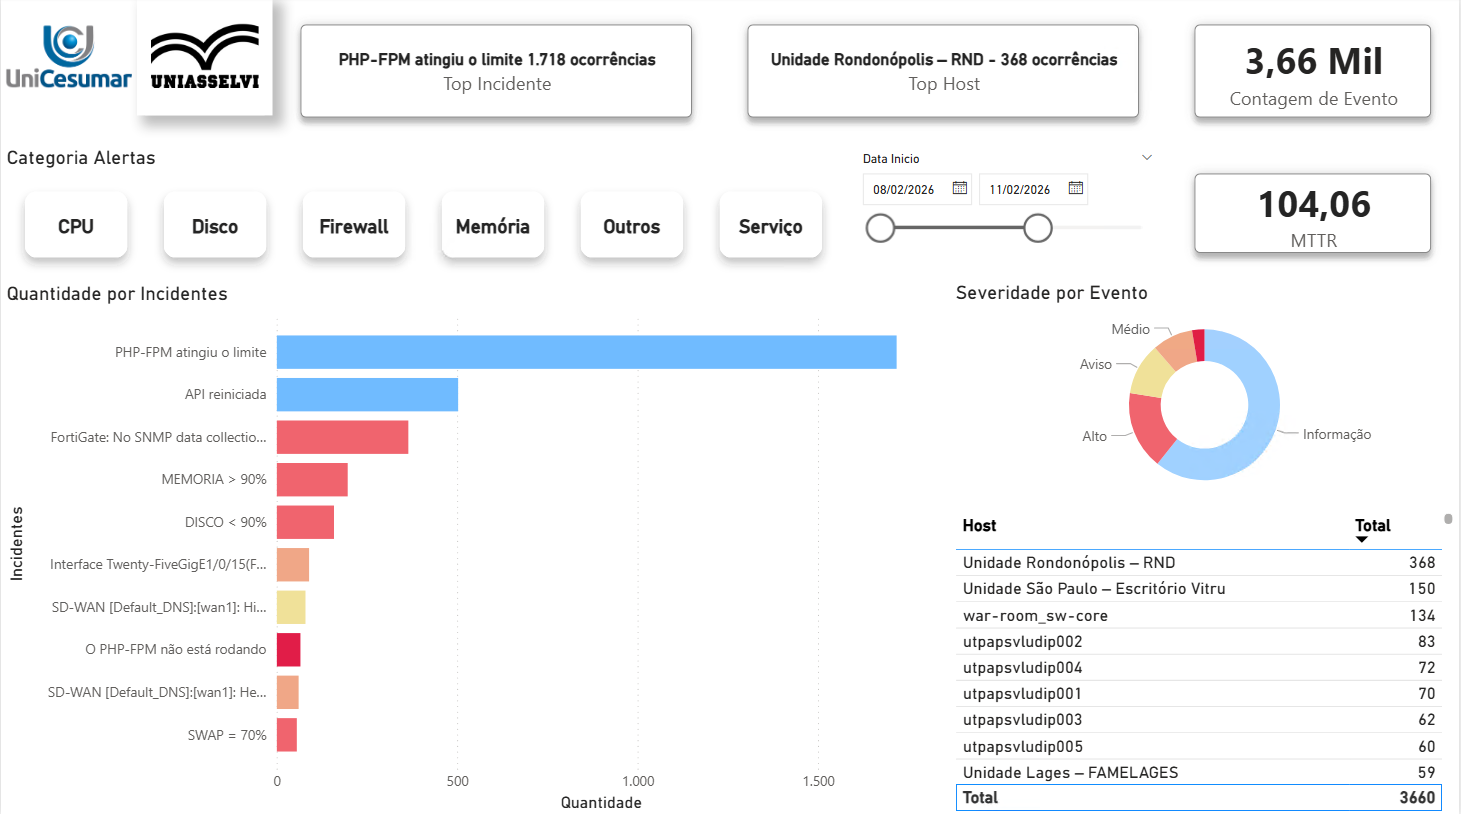

What the dashboard file says about the page in this screenshot:
{"tool":"powerbi","page":{"name":"Zabbix Uniasselvi (Operacional)","canvas":[1280,720],"ordinal":1},"visuals":[{"type":"clusteredBarChart","fields":{"Category":["Zabbix Uniasselvi 08/02 -> 14-02.Evento"],"Y":["CountNonNull(Zabbix Uniasselvi 08/02 -> 14-02.Evento)"]},"box":[0,250.2,832.4,469.8],"z":0},{"type":"tableEx","fields":{"Values":["Zabbix Uniasselvi 08/02 -> 14-02.Host","Zabbix Uniasselvi 08/02 -> 14-02.Evento"]},"box":[832.4,447.8,447.8,272.2],"z":1000},{"type":"cardVisual","fields":{"Data":["CountNonNull(Zabbix Uniasselvi 08/02 -> 14-02.Evento)"]},"box":[1023.8,0,256.4,130.8],"z":2000},{"type":"advancedSlicerVisual","fields":{"Values":["Zabbix Uniasselvi 08/02 -> 14-02.Categoria Alertas"]},"box":[0,130.8,743.7,119.4],"z":3000},{"type":"donutChart","fields":{"Y":["CountNonNull(Zabbix Uniasselvi 08/02 -> 14-02.Severidade)"],"Category":["Zabbix Uniasselvi 08/02 -> 14-02.Severidade"]},"box":[833.3,249.4,446.9,198.4],"z":4000},{"type":"cardVisual","fields":{"Data":["Zabbix Uniasselvi 08/02 -> 14-02.Top_Evento_Qtd"]},"box":[238.8,0,392.5,130.8],"z":5000},{"type":"cardVisual","fields":{"Data":["Avg(Zabbix Uniasselvi 08/02 -> 14-02.Duracao_Minutos)"]},"box":[1023.8,130.8,256.4,118.5],"z":6000},{"type":"cardVisual","fields":{"Data":["Zabbix Uniasselvi 08/02 -> 14-02.Top_Host_Vertical_Uniasselvi"]},"box":[631.3,0,392.5,130.8],"z":7000},{"type":"slicer","fields":{"Values":["Zabbix Uniasselvi 08/02 -> 14-02.Data Inicio"]},"box":[743.7,130.8,280.1,119.4],"z":8000},{"type":"image","box":[119.4,0,119.4,104.5],"z":9000},{"type":"image","box":[0,0,119.4,104.5],"z":10000},{"type":"actionButton","box":[0,0,119.4,111.5],"z":10001}]}

Visuals, with their boxes in screenshot pixels (x1, y1, x2, y2), scaled from the page's 1280x720 canvas onto the 1462x814 screenshot:
clusteredBarChart - Zabbix Uniasselvi 08/02 -> 14-02.Evento x CountNonNull(Zabbix Uniasselvi 08/02 -> 14-02.Evento): [x1=0, y1=283, x2=951, y2=813]
tableEx - Zabbix Uniasselvi 08/02 -> 14-02.Host x Zabbix Uniasselvi 08/02 -> 14-02.Evento: [x1=951, y1=506, x2=1461, y2=813]
cardVisual - CountNonNull(Zabbix Uniasselvi 08/02 -> 14-02.Evento): [x1=1169, y1=0, x2=1461, y2=148]
advancedSlicerVisual - Zabbix Uniasselvi 08/02 -> 14-02.Categoria Alertas: [x1=0, y1=148, x2=849, y2=283]
donutChart - CountNonNull(Zabbix Uniasselvi 08/02 -> 14-02.Severidade) x Zabbix Uniasselvi 08/02 -> 14-02.Severidade: [x1=952, y1=282, x2=1461, y2=506]
cardVisual - Zabbix Uniasselvi 08/02 -> 14-02.Top_Evento_Qtd: [x1=273, y1=0, x2=721, y2=148]
cardVisual - Avg(Zabbix Uniasselvi 08/02 -> 14-02.Duracao_Minutos): [x1=1169, y1=148, x2=1461, y2=282]
cardVisual - Zabbix Uniasselvi 08/02 -> 14-02.Top_Host_Vertical_Uniasselvi: [x1=721, y1=0, x2=1169, y2=148]
slicer - Zabbix Uniasselvi 08/02 -> 14-02.Data Inicio: [x1=849, y1=148, x2=1169, y2=283]
image: [x1=136, y1=0, x2=273, y2=118]
image: [x1=0, y1=0, x2=136, y2=118]
actionButton: [x1=0, y1=0, x2=136, y2=126]
